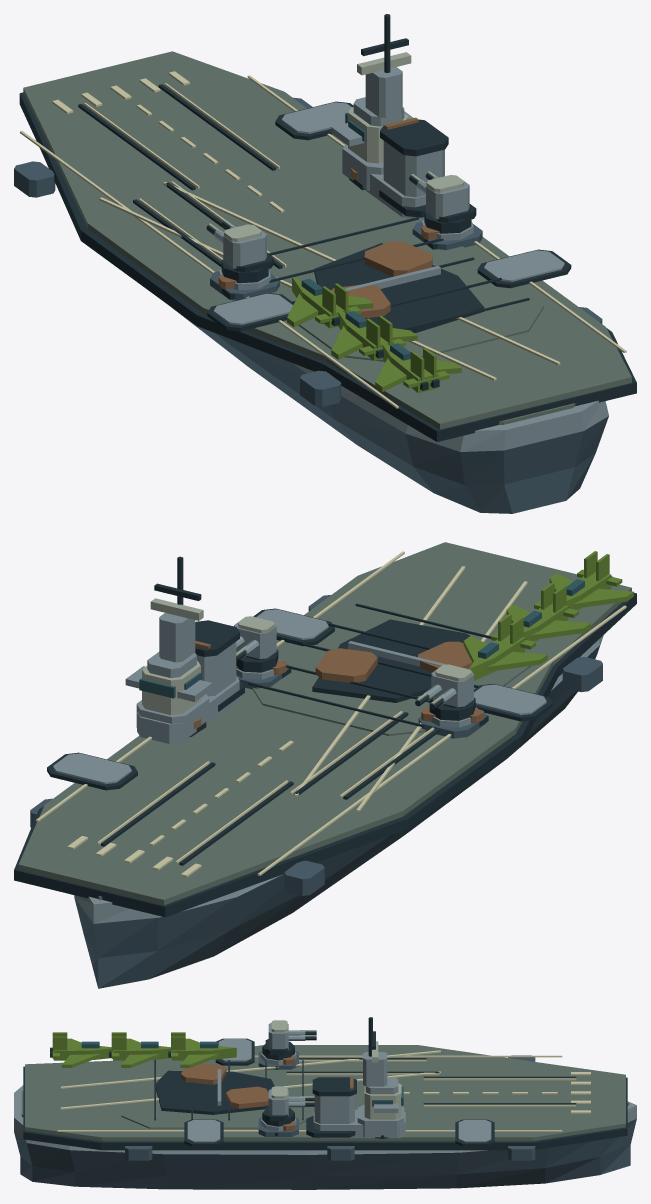
Rendered from historic-midway.glb.
3 renders of one model, top to bottom at view 1: azimuth 30°, elevation 25°; view 2: azimuth 150°, elevation 25°; view 3: azimuth 270°, elevation 25°, orthographic. The views are drawn at different scales.
Visible parts, largest first — view 1: historic-midway-historic-midway-geometry, historic-midway-part_flight-deck.017-geometry, historic-midway-ruin_flight-deck.016-geometry, historic-midway-part_bridge.075-geometry, historic-midway-historic_funnel_0.078-geometry, historic-midway-turret_aa_aa-port.079-geometry, historic-midway-turret_aa_aa-starboard.075-geometry, historic-midway-parked_aircraft_0.017-geometry, historic-midway-parked_aircraft_2.017-geometry, historic-midway-parked_aircraft_1.017-geometry, historic-midway-aircraft_lift_1.017-geometry, historic-midway-aircraft_lift_2.012-geometry (+3 smaller); view 2: historic-midway-historic-midway-geometry, historic-midway-part_flight-deck.017-geometry, historic-midway-ruin_flight-deck.016-geometry, historic-midway-part_bridge.075-geometry, historic-midway-historic_funnel_0.078-geometry, historic-midway-parked_aircraft_2.017-geometry, historic-midway-parked_aircraft_0.017-geometry, historic-midway-parked_aircraft_1.017-geometry, historic-midway-turret_aa_aa-port.079-geometry, historic-midway-aircraft_lift_0.017-geometry, historic-midway-turret_aa_aa-starboard.075-geometry, historic-midway-aircraft_lift_2.012-geometry (+3 smaller); view 3: historic-midway-historic-midway-geometry, historic-midway-part_flight-deck.017-geometry, historic-midway-ruin_flight-deck.016-geometry, historic-midway-part_bridge.075-geometry, historic-midway-historic_funnel_0.078-geometry, historic-midway-parked_aircraft_2.017-geometry, historic-midway-parked_aircraft_0.017-geometry, historic-midway-parked_aircraft_1.017-geometry, historic-midway-turret_aa_aa-port.079-geometry, historic-midway-turret_aa_aa-starboard.075-geometry, historic-midway-aircraft_lift_0.017-geometry, historic-midway-aircraft_lift_1.017-geometry (+3 smaller).
Boxes of the visible parts, x1,y1,x2,y2 form: historic-midway-historic-midway-geometry: (14,51,636,513); historic-midway-part_flight-deck.017-geometry: (268,217,543,361); historic-midway-ruin_flight-deck.016-geometry: (314,241,484,332); historic-midway-part_bridge.075-geometry: (331,14,413,190); historic-midway-historic_funnel_0.078-geometry: (343,117,448,218); historic-midway-turret_aa_aa-port.079-geometry: (206,219,273,283); historic-midway-turret_aa_aa-starboard.075-geometry: (409,171,476,233); historic-midway-parked_aircraft_0.017-geometry: (375,341,461,393); historic-midway-parked_aircraft_2.017-geometry: (287,277,373,328); historic-midway-parked_aircraft_1.017-geometry: (331,309,417,360); historic-midway-aircraft_lift_1.017-geometry: (477,249,571,288); historic-midway-aircraft_lift_2.012-geometry: (207,293,293,331); historic-midway-historic-midway-geometry: (14,542,636,988); historic-midway-part_flight-deck.017-geometry: (248,599,546,735); historic-midway-ruin_flight-deck.016-geometry: (312,619,472,702); historic-midway-part_bridge.075-geometry: (125,556,212,739); historic-midway-historic_funnel_0.078-geometry: (137,620,244,743); historic-midway-parked_aircraft_2.017-geometry: (463,614,547,680); historic-midway-parked_aircraft_0.017-geometry: (549,551,633,610); historic-midway-parked_aircraft_1.017-geometry: (506,582,590,641); historic-midway-turret_aa_aa-port.079-geometry: (415,664,475,720); historic-midway-aircraft_lift_0.017-geometry: (47,752,137,790); historic-midway-turret_aa_aa-starboard.075-geometry: (234,616,278,672); historic-midway-aircraft_lift_2.012-geometry: (474,683,552,721); historic-midway-historic-midway-geometry: (14,1045,636,1189); historic-midway-part_flight-deck.017-geometry: (121,1060,317,1128); historic-midway-ruin_flight-deck.016-geometry: (156,1063,274,1114); historic-midway-part_bridge.075-geometry: (357,1017,404,1137); historic-midway-historic_funnel_0.078-geometry: (306,1077,405,1138); historic-midway-parked_aircraft_2.017-geometry: (168,1032,236,1067); historic-midway-parked_aircraft_0.017-geometry: (50,1032,111,1067); historic-midway-parked_aircraft_1.017-geometry: (109,1032,170,1067); historic-midway-turret_aa_aa-port.079-geometry: (262,1020,316,1060); historic-midway-turret_aa_aa-starboard.075-geometry: (262,1086,314,1126); historic-midway-aircraft_lift_0.017-geometry: (455,1119,494,1146); historic-midway-aircraft_lift_1.017-geometry: (184,1119,223,1146).
Size of the model in its own units: 2.36 by 1.92 by 5.89.
